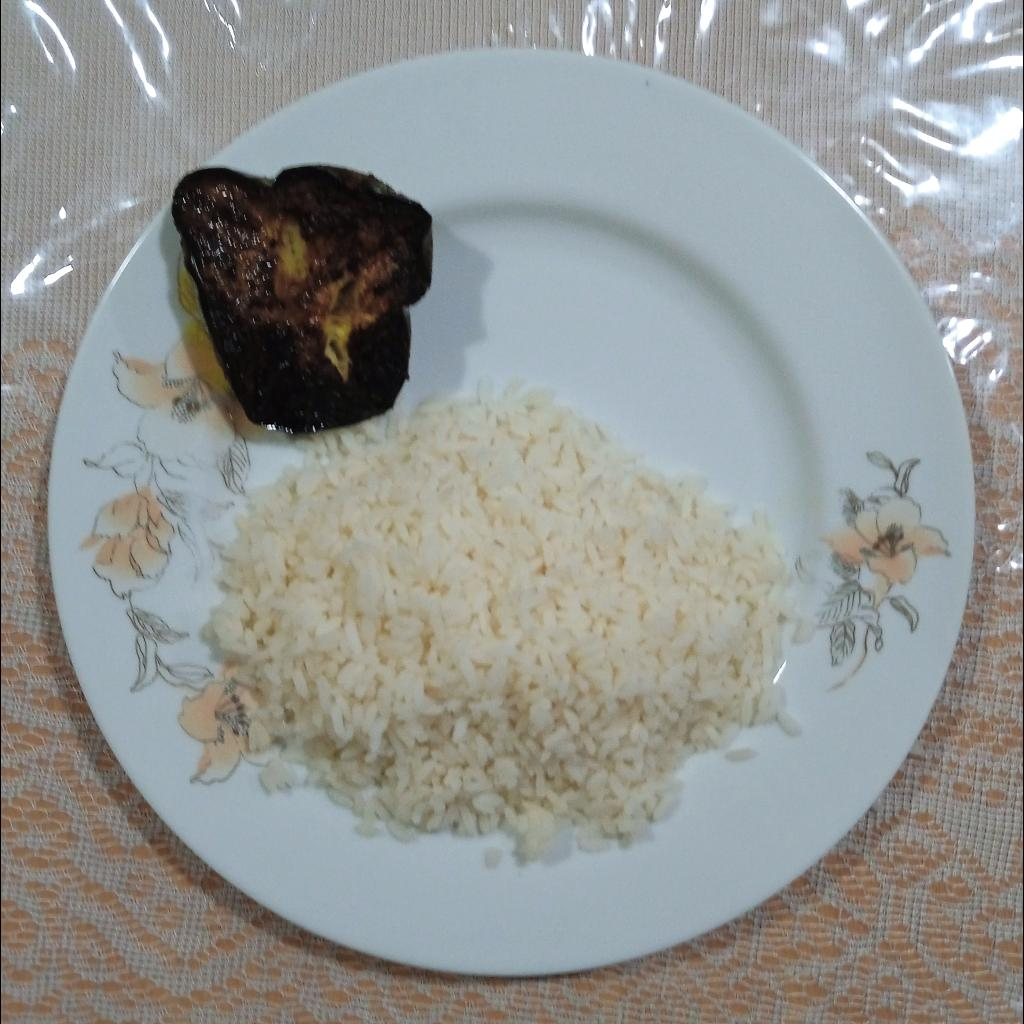begun-vaji: (172, 165, 433, 436)
rice: (204, 371, 817, 866)
